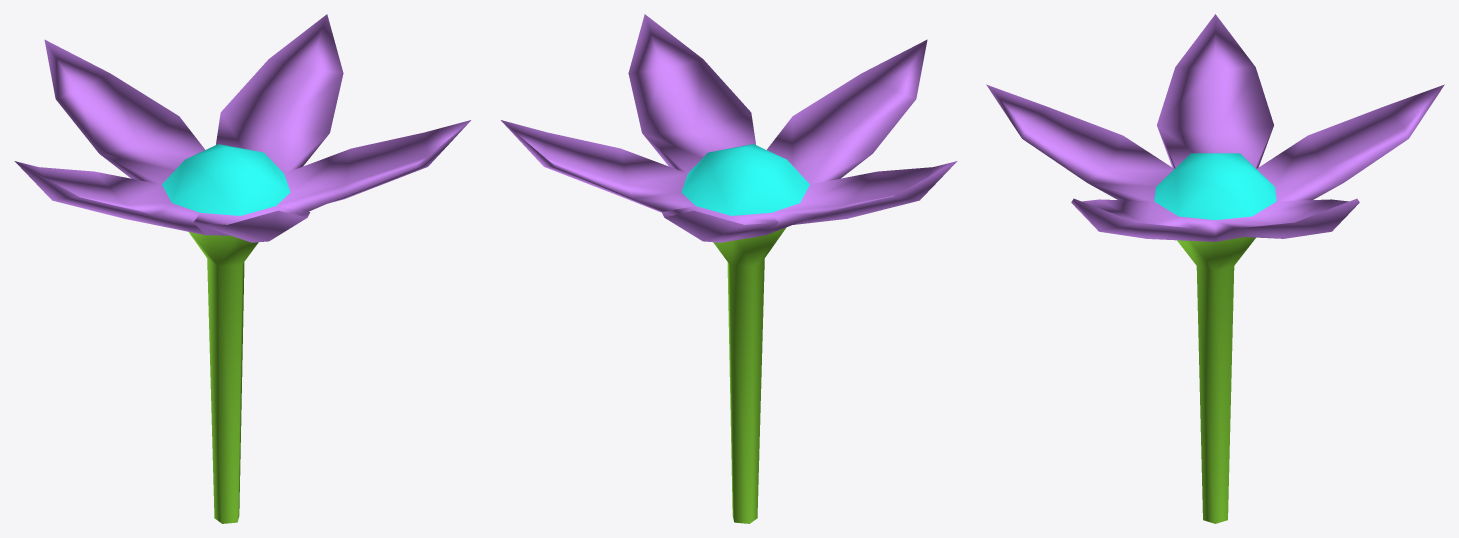
Rendered from Daisy2_Purple.fbx.
The picture shows the model from 3 angles, left to right: view 1: azimuth 30°, elevation 25°; view 2: azimuth 150°, elevation 25°; view 3: azimuth 270°, elevation 25°; orthographic projection.
Visible parts, largest first — view 1: Daisy2; view 2: Daisy2; view 3: Daisy2.
Boxes of the visible parts, x1=… form: Daisy2: x1=14, y1=14, x2=470, y2=523; Daisy2: x1=501, y1=14, x2=957, y2=523; Daisy2: x1=986, y1=14, x2=1444, y2=523.
Bounding box in the file's own units: 45.52 × 46.29 × 47.86.
